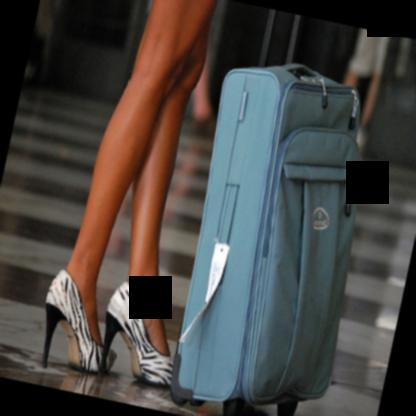suitcase: (168, 8, 361, 416)
